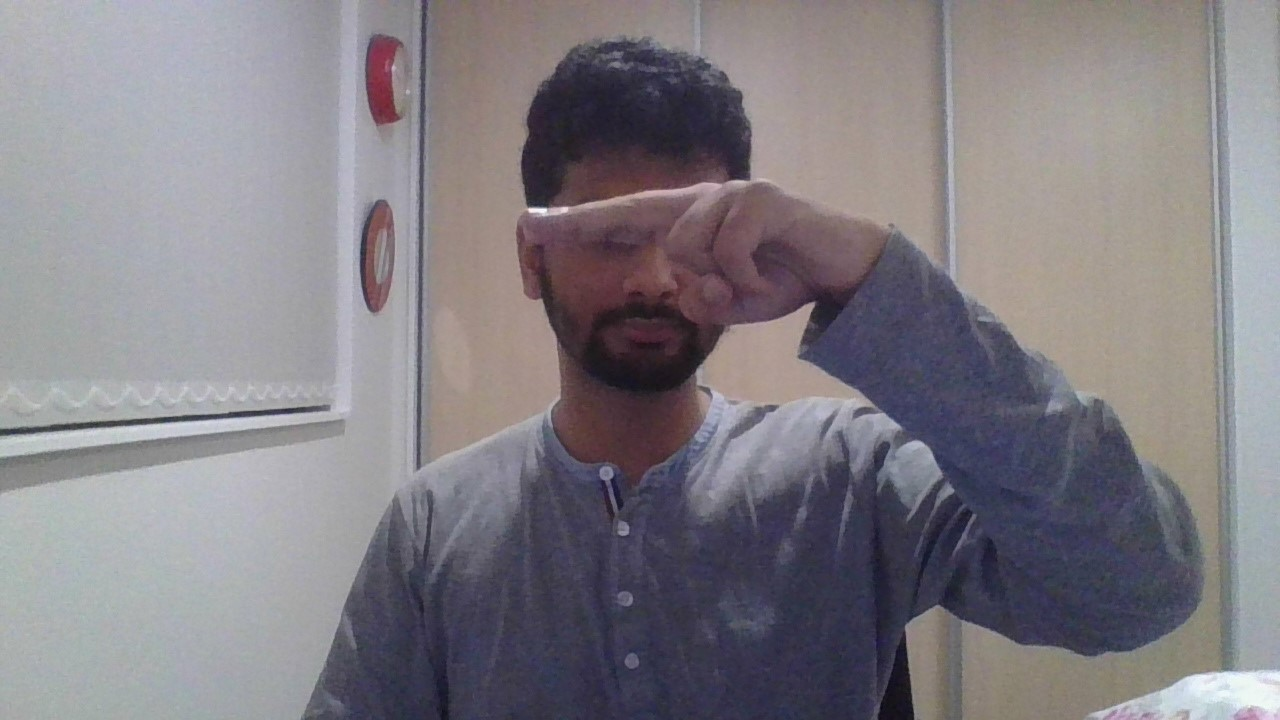look_around: (522, 179, 824, 326)
